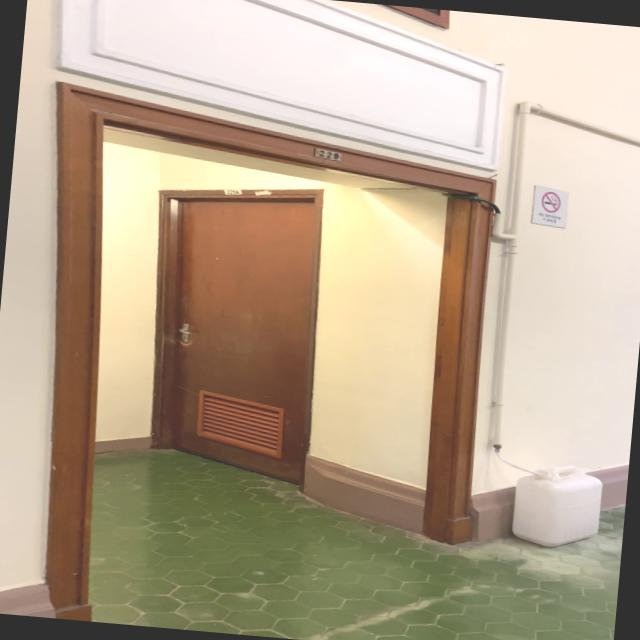room229: (310, 146, 345, 162)
